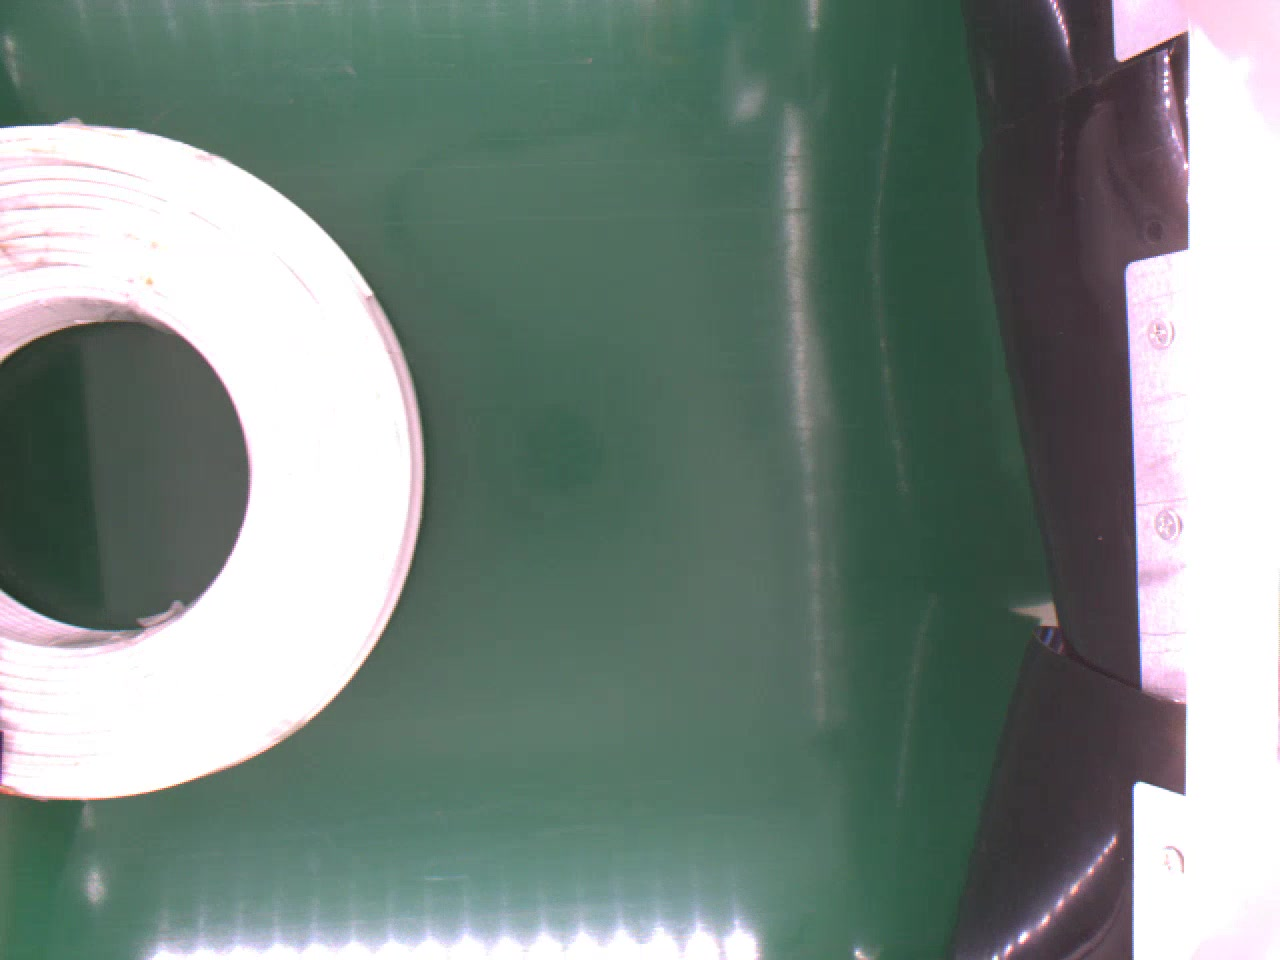white: (0, 121, 424, 802)
